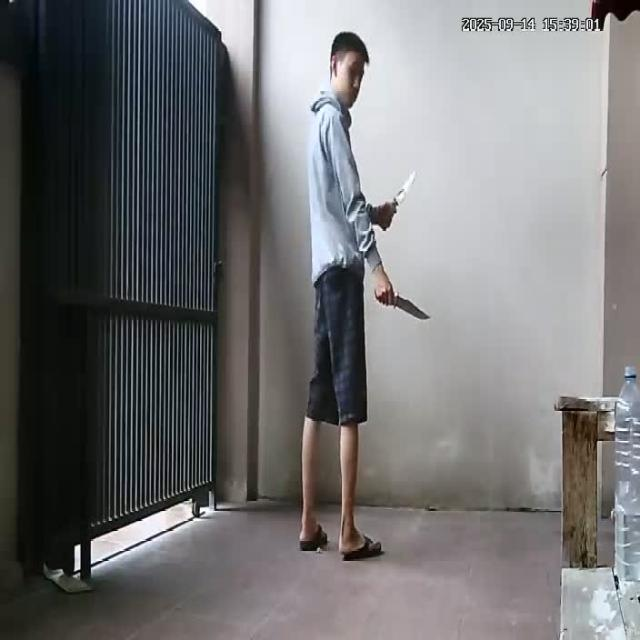senjata_tajam: (392, 294, 433, 321), (394, 166, 417, 208)
